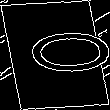O_E: (1, 31, 109, 79)
